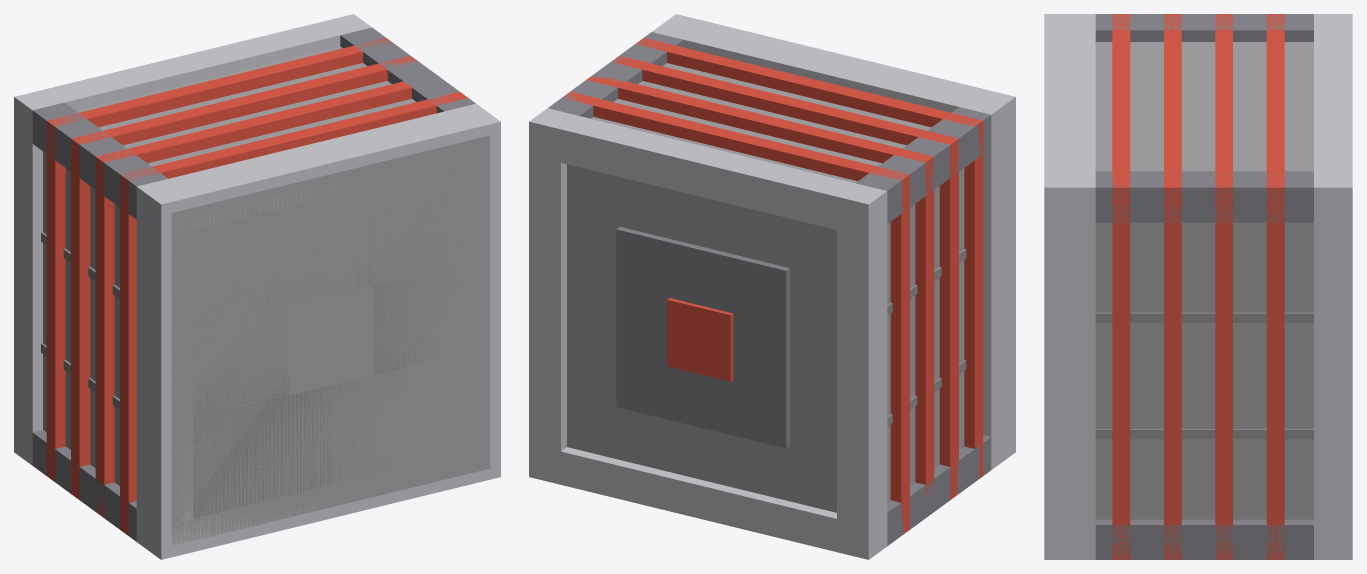
File: piston_4_on.gltf
3 views of the same model, side by side, from view 1: azimuth 30°, elevation 25°; view 2: azimuth 150°, elevation 25°; view 3: azimuth 270°, elevation 25° (orthographic). The views are drawn at different scales.
Parts seen in each view (by area): view 1: piston_4_on; view 2: piston_4_on; view 3: piston_4_on.
Part boxes in pixels (x1=…): piston_4_on: x1=14, y1=14, x2=500, y2=559; piston_4_on: x1=529, y1=14, x2=1015, y2=559; piston_4_on: x1=1044, y1=14, x2=1352, y2=559.
Size of the model in its own units: 1 by 1 by 0.75.
